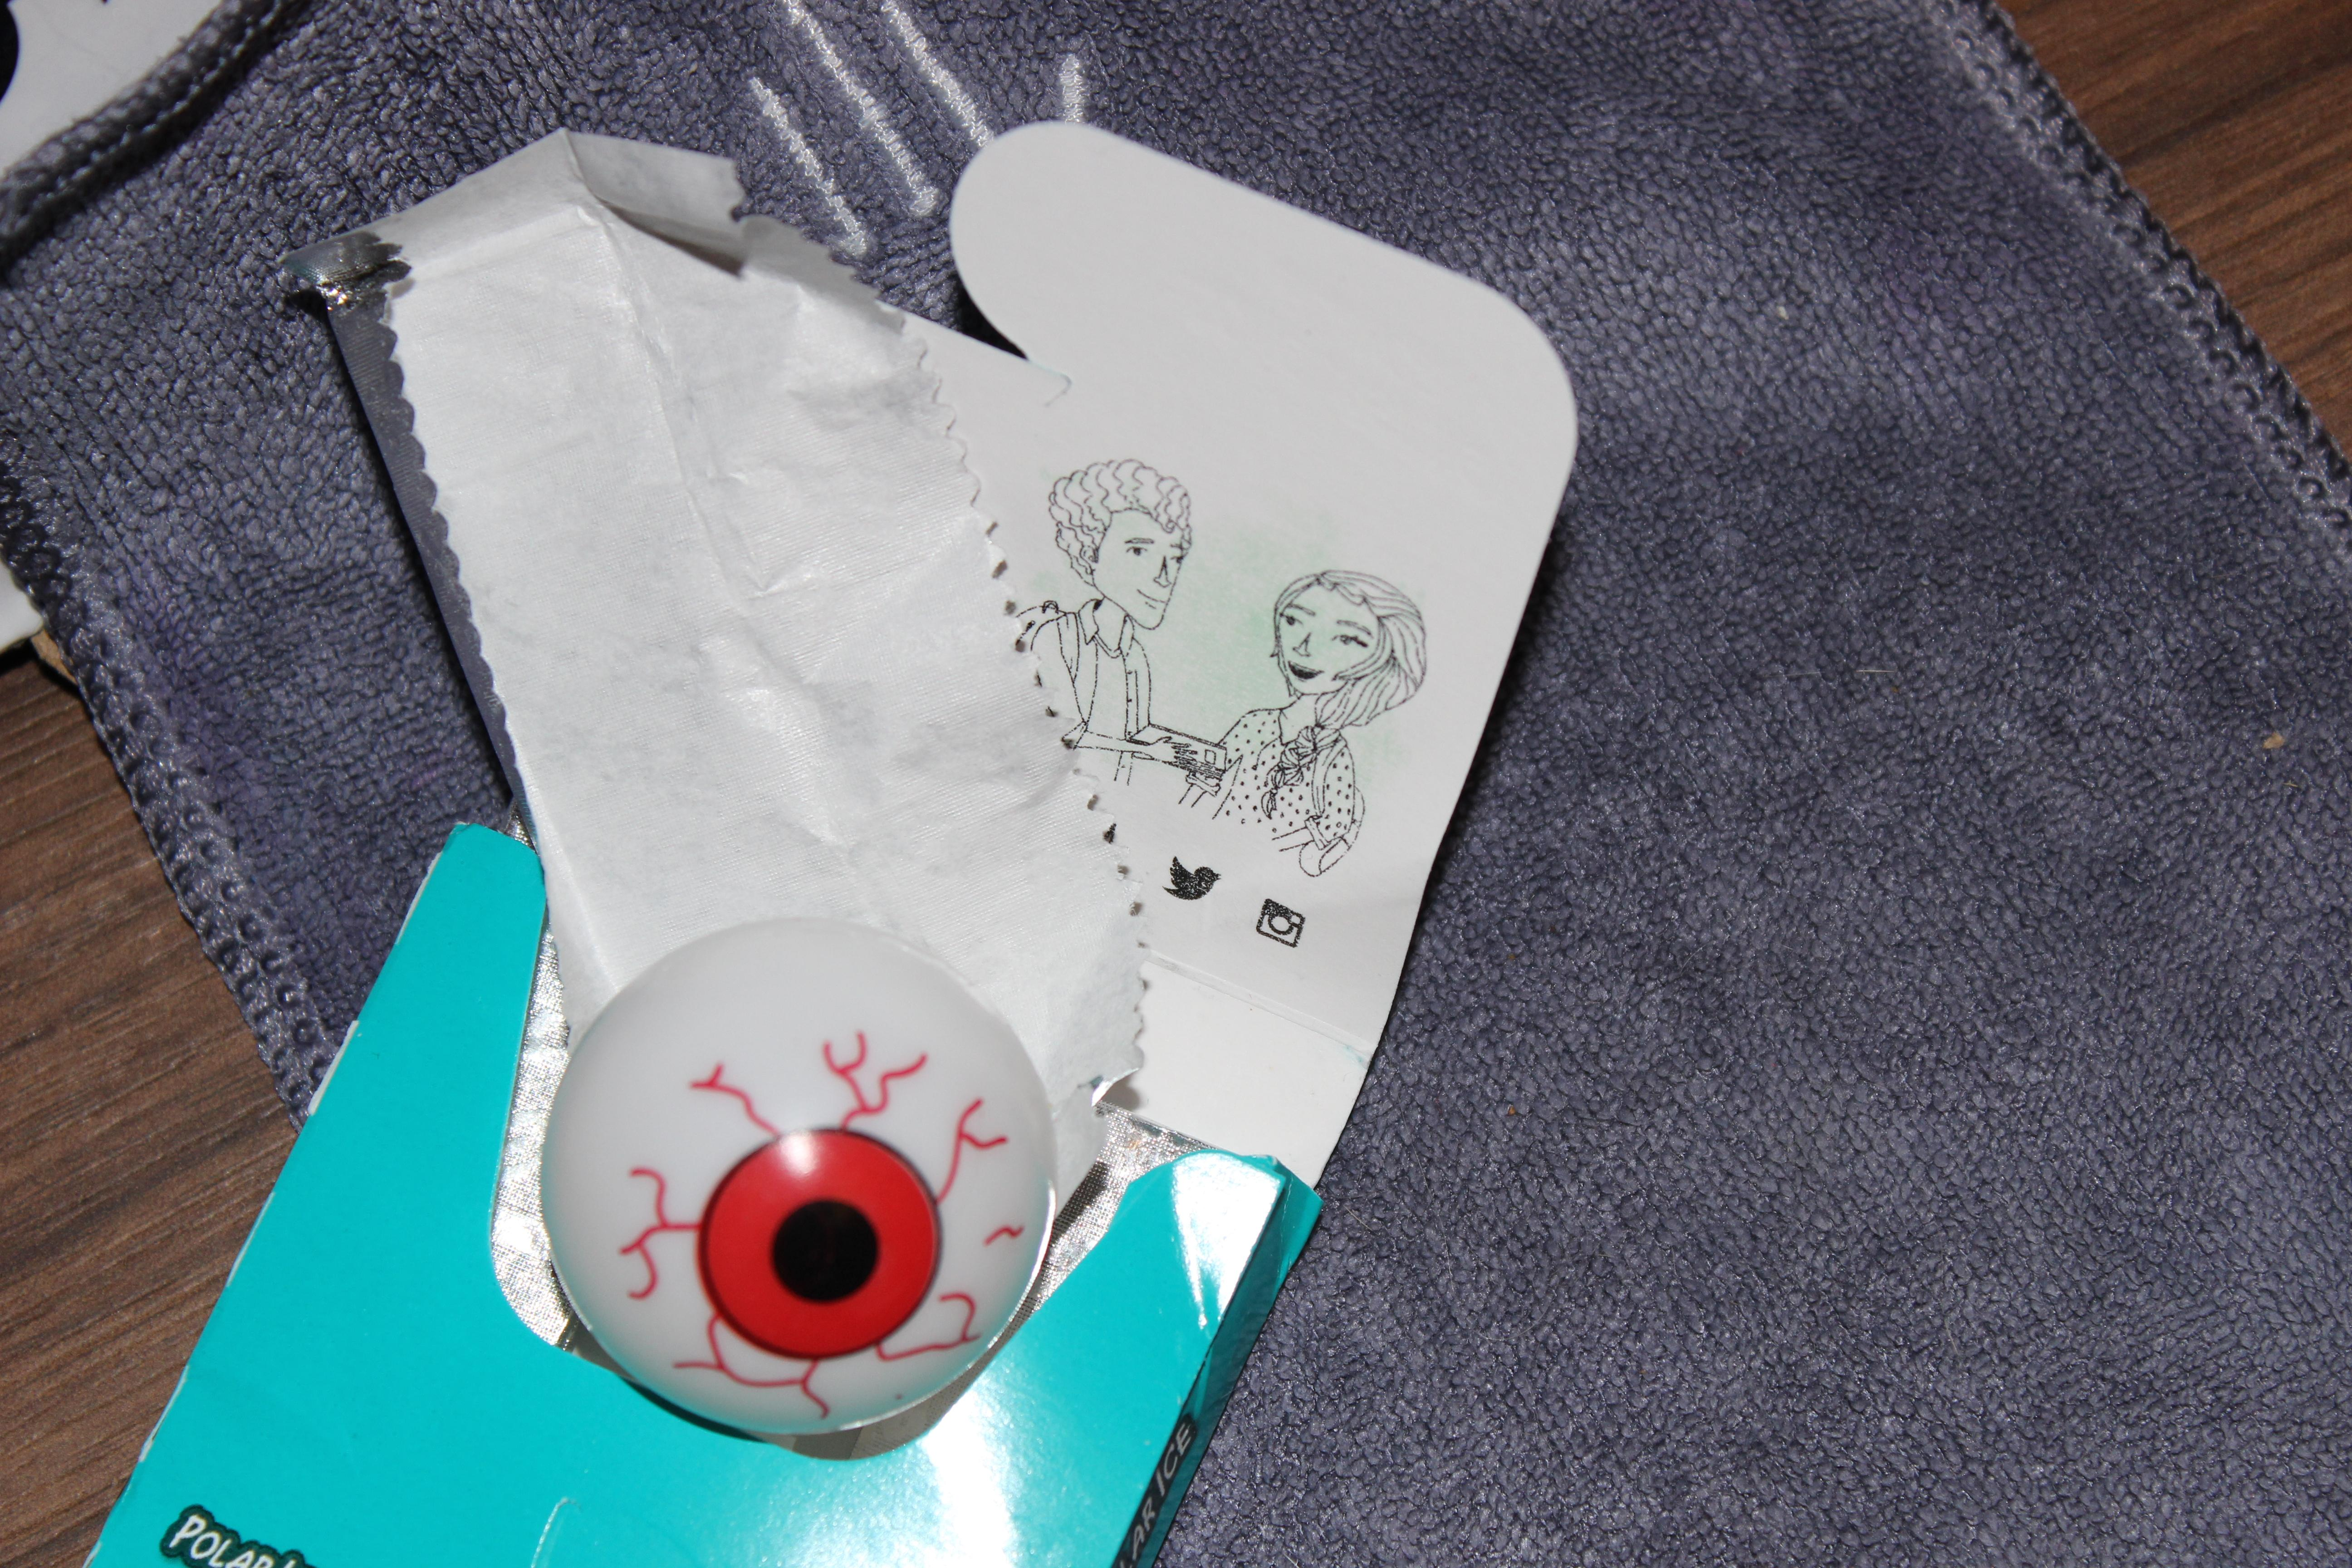eyeball: (507, 904, 1092, 1469)
